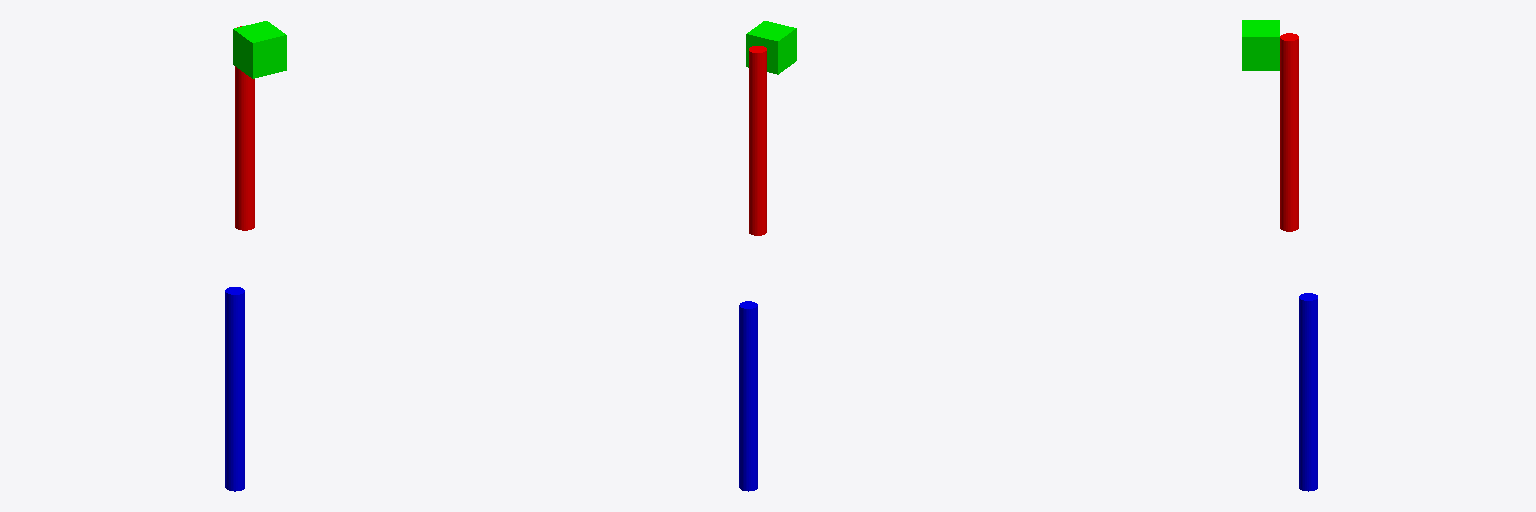
The robot description file, URDF, robot "Acrobot":
<?xml version="1.0"?>

<robot xmlns="http://drake.mit.edu"
 xmlns:xsi="http://www.w3.org/2001/XMLSchema-instance"
 name="Acrobot">

  <link name="base_link">
    <visual>
      <geometry>
        <box size="0.2 0.2 0.2" />
      </geometry>
      <material name="green">
        <color rgba="0 1 0 1" />
      </material>
    </visual>
  </link>

  <link name="upper_link">
    <inertial>
      <origin xyz="0 0 -.5" rpy="0 0 0" />
      <mass value="1" />
      <inertia ixx="1" ixy="0" ixz="0" iyy=".083" iyz="0" izz="1" />
    </inertial>
    <visual>
      <origin xyz="0 0 -0.5" rpy="0 0 0" />
      <geometry>
        <cylinder length="1.1" radius="0.05" />
      </geometry>
      <material name="red">
        <color rgba="1 0 0 1" />
      </material>
    </visual>
  </link>

  <link name="lower_link">
    <inertial>
      <origin xyz="0 0 -1" rpy="0 0 0" />
      <mass value="1" />
      <inertia ixx="1" ixy="0" ixz="0" iyy=".083" iyz="0" izz="1" />
<!--      <inertia ixx="8" ixy="0" ixz="0" iyy="2" iyz="0" izz="8" />-->
    </inertial>
    <visual>
      <origin xyz="0 0 -1" rpy="0 0 0" />
      <geometry>
         <cylinder length="1.1" radius=".05" />
      </geometry>
      <material name="blue">
        <color rgba="0 0 1 1" />
      </material>
    </visual>
  </link>

  <joint name="shoulder" type="continuous">
    <parent link="base_link" />
    <child link="upper_link" />
    <origin xyz="0 0.15 0" />
    <axis xyz="0 1 0" />
    <dynamics damping="0.1" />
  </joint>

  <joint name="elbow" type="continuous">
    <parent link="upper_link" />
    <child link="lower_link" />
    <origin xyz="0 0.1 -1" />
    <axis xyz="0 1 0" />
    <dynamics damping="0.1" />
  </joint>

  <transmission type="SimpleTransmission" name="elbow_trans">
    <actuator name="elbow" />
    <joint name="elbow" />
    <mechanicalReduction>1</mechanicalReduction>
  </transmission>
</robot>

--- Facts derived from the render (not from the file) ---
Views: 3 orthographic renders of the robot side by side, from view 1: azimuth 30°, elevation 25°; view 2: azimuth 150°, elevation 25°; view 3: azimuth 270°, elevation 25°.
Model Acrobot with 3 links and 2 joints (2 continuous), rooted at base_link, posed every joint at zero.
Links seen in each view (by area): view 1: lower_link, upper_link, base_link; view 2: lower_link, upper_link, base_link; view 3: upper_link, lower_link, base_link.
Link boxes in pixels (x1,y1,x2,y2): lower_link: (225,287,244,491); upper_link: (235,26,254,230); base_link: (233,21,286,78); lower_link: (739,301,757,491); upper_link: (749,46,766,235); base_link: (746,21,796,74); upper_link: (1280,33,1298,231); lower_link: (1299,293,1317,491); base_link: (1242,20,1279,70).
Bounding box of the posed robot: 0.2 × 0.4 × 2.65 m (x, y, z).
Geometry: primitives only (box / cylinder / sphere), no mesh files.
